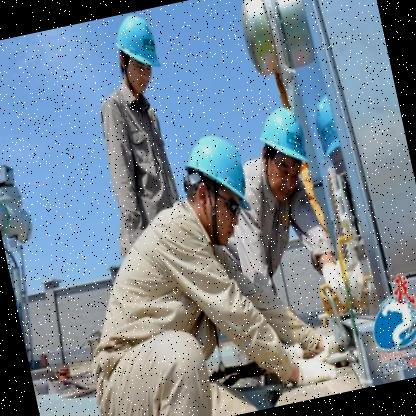capacete: (170, 124, 261, 256), (249, 102, 320, 205), (104, 8, 170, 104)
sem_colete_refletivo: (76, 194, 248, 406), (215, 148, 335, 290), (90, 78, 188, 232)
